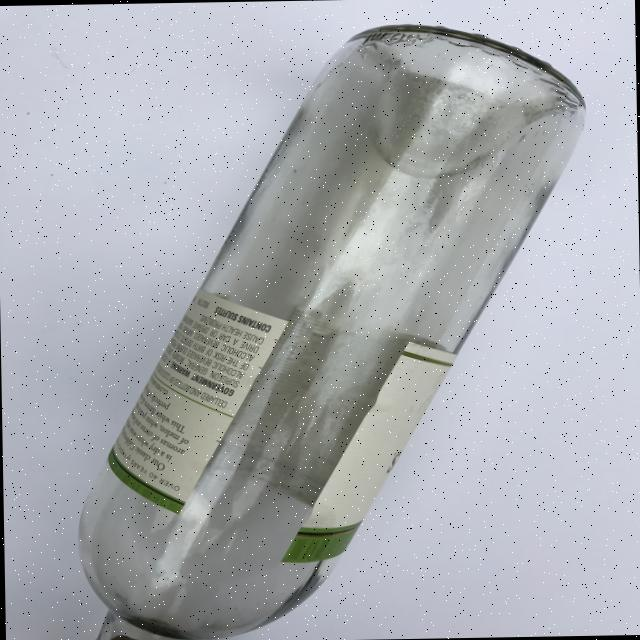glass: (79, 18, 576, 640)
